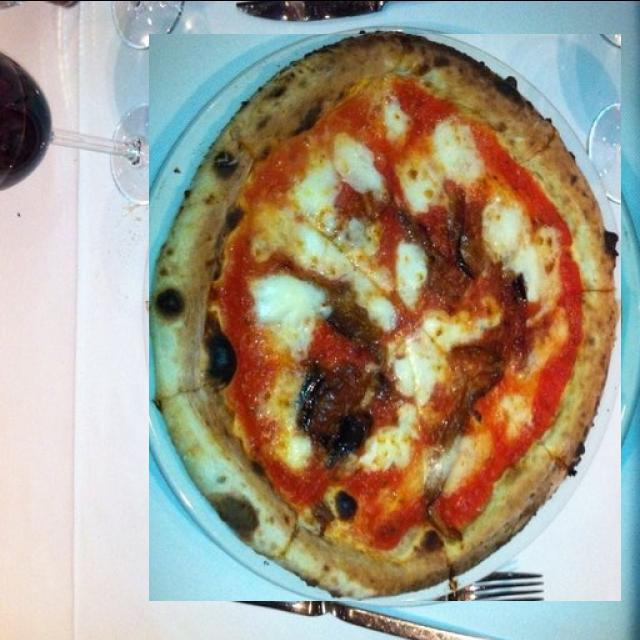pizza: (149, 33, 621, 600)
